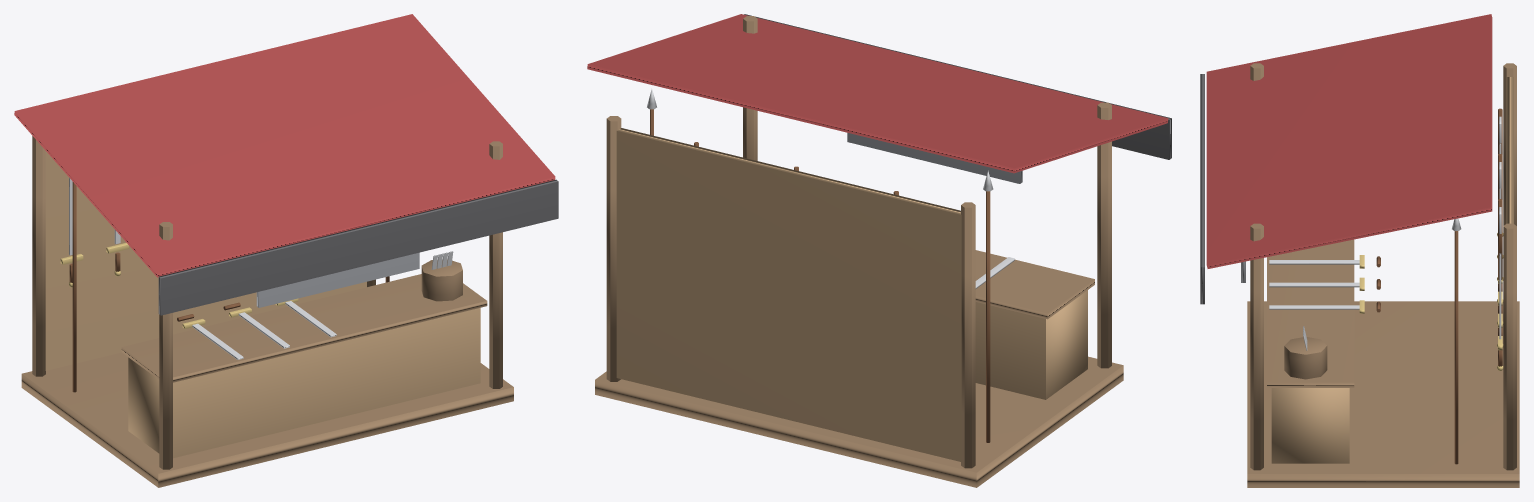
Rendered from puesto_armas.glb.
The picture shows the model from 3 angles, left to right: view 1: azimuth 30°, elevation 25°; view 2: azimuth 150°, elevation 25°; view 3: azimuth 270°, elevation 25°; orthographic projection. The views are drawn at different scales.
Parts seen in each view (by area): view 1: Pz_Toldo, Grupo_1_2piezas, Grupo_0_7piezas, Pz_Toldo_Franja, Pz_Letrero_Puesto, Grupo_2_19piezas, Grupo_4_15piezas, Grupo_3_17piezas; view 2: Grupo_1_2piezas, Pz_Toldo, Grupo_0_7piezas, Pz_Toldo_Franja, Pz_Letrero_Puesto, Grupo_4_15piezas; view 3: Pz_Toldo, Grupo_0_7piezas, Grupo_1_2piezas, Grupo_2_19piezas, Grupo_4_15piezas, Pz_Toldo_Franja, Grupo_3_17piezas.
Part boxes in pixels (x1,y1,x2,y2): Pz_Toldo: [14, 14, 555, 277]; Grupo_1_2piezas: [45, 151, 480, 458]; Grupo_0_7piezas: [21, 136, 513, 487]; Pz_Toldo_Franja: [158, 179, 558, 315]; Pz_Letrero_Puesto: [256, 252, 419, 307]; Grupo_2_19piezas: [69, 177, 453, 359]; Grupo_4_15piezas: [69, 182, 389, 392]; Grupo_3_17piezas: [60, 242, 298, 328]; Grupo_1_2piezas: [616, 128, 1087, 461]; Pz_Toldo: [587, 14, 1168, 173]; Grupo_0_7piezas: [595, 16, 1123, 487]; Pz_Toldo_Franja: [744, 14, 1171, 159]; Pz_Letrero_Puesto: [847, 133, 1022, 183]; Grupo_4_15piezas: [650, 109, 990, 442]; Pz_Toldo: [1206, 14, 1492, 268]; Grupo_0_7piezas: [1247, 63, 1519, 487]; Grupo_1_2piezas: [1271, 77, 1513, 463]; Grupo_2_19piezas: [1269, 116, 1501, 350]; Grupo_4_15piezas: [1376, 108, 1502, 464]; Pz_Toldo_Franja: [1200, 74, 1204, 304]; Grupo_3_17piezas: [1359, 233, 1503, 370].
Bounding box in the file's own units: 4.7 × 3.3 × 3.28.
